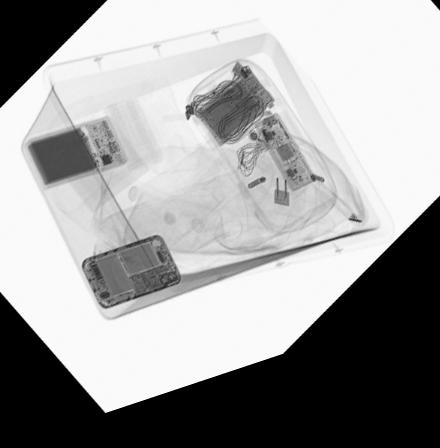Powerbank: (22, 121, 130, 193)
